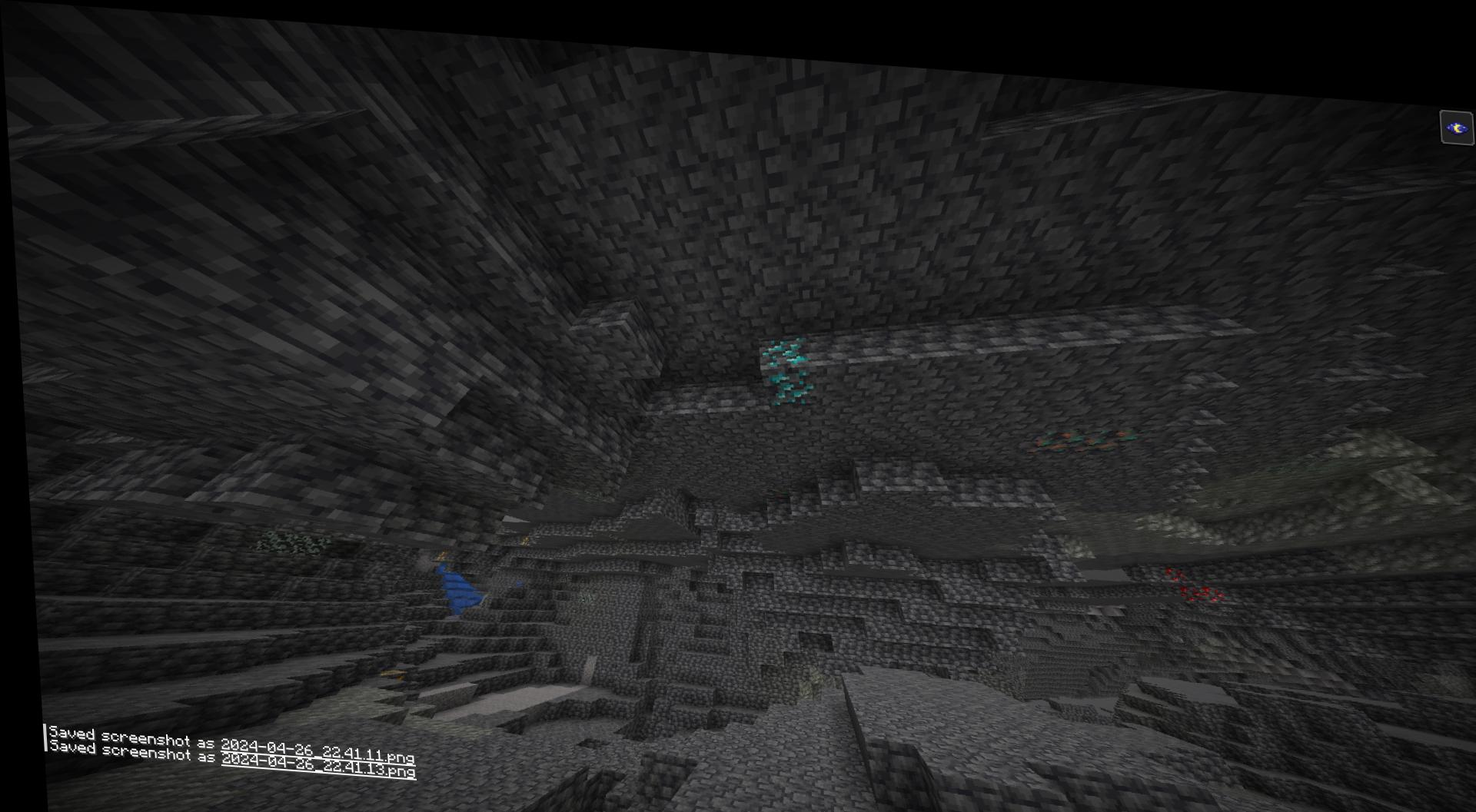diamond ore: (756, 319, 812, 359), (759, 354, 814, 394)
redstone ore: (1161, 547, 1217, 587)
